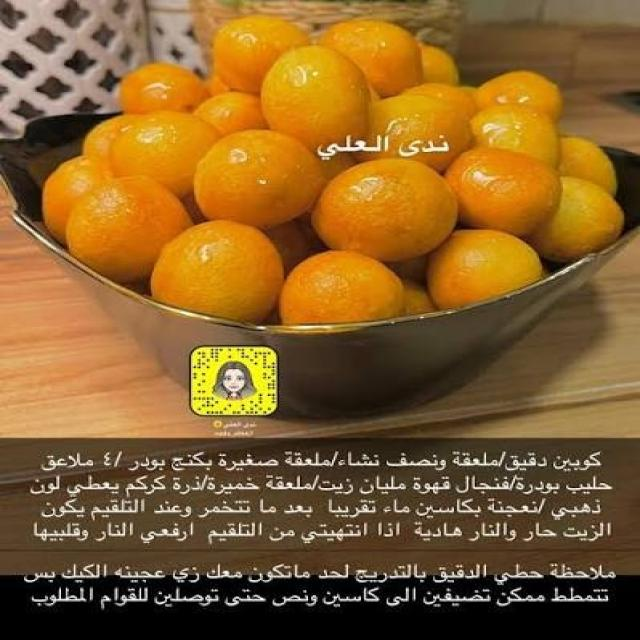Luqaimat: (1, 8, 640, 333)
